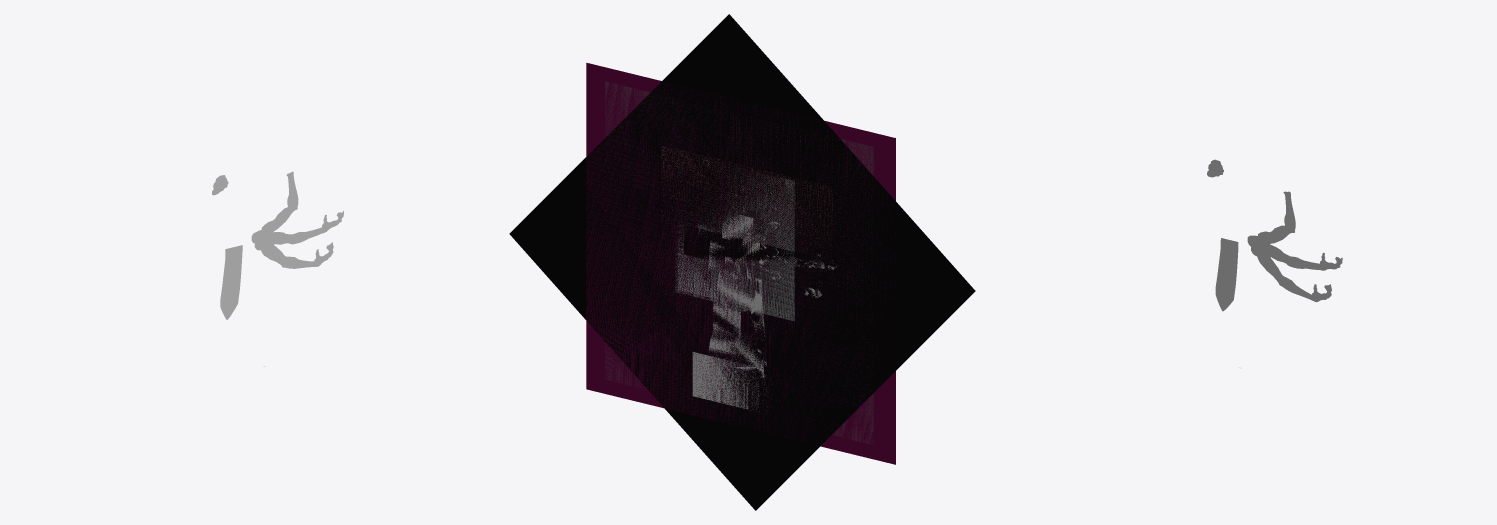
File: Skeleton Prefab Mesh _Eb_Simon_02_.glb
3 views of the same model, side by side, from view 1: azimuth 30°, elevation 25°; view 2: azimuth 150°, elevation 25°; view 3: azimuth 330°, elevation 25° (orthographic). The views are drawn at different scales.
Visible parts, largest first — view 1: Skeleton Prefab Mesh "Eb_Simon_02"; view 2: Skeleton Prefab Mesh "Eb_Simon_02"; view 3: Skeleton Prefab Mesh "Eb_Simon_02".
Part boxes in pixels (box(x1,y1,x2,y2)): Skeleton Prefab Mesh "Eb_Simon_02": box(212, 171, 343, 366); Skeleton Prefab Mesh "Eb_Simon_02": box(509, 14, 975, 510); Skeleton Prefab Mesh "Eb_Simon_02": box(1207, 159, 1342, 311).
Size of the model in its own units: 12.93 by 12.99 by 0.
